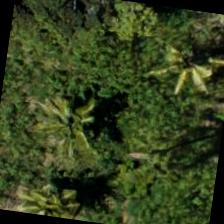Kelapa_Sawit: (22, 57, 124, 158), (0, 158, 96, 221), (10, 0, 83, 44)
